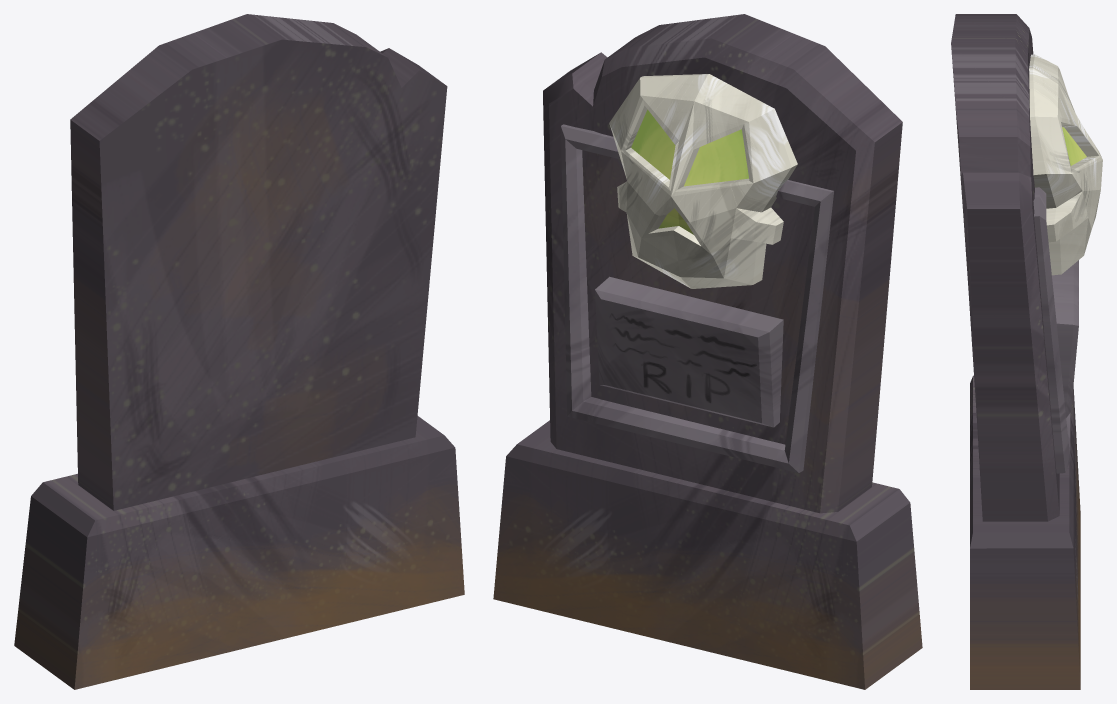
File: Tombstone.fbx
3 views of the same model, side by side, from view 1: azimuth 30°, elevation 25°; view 2: azimuth 150°, elevation 25°; view 3: azimuth 270°, elevation 25° (orthographic). The views are drawn at different scales.
Visible parts, largest first — view 1: Tombstone; view 2: Tombstone; view 3: Tombstone.
Part boxes in pixels (x1,y1,x2,y2): Tombstone: (14,14,464,689); Tombstone: (493,14,922,689); Tombstone: (951,14,1102,689).
Bounding box in the file's own units: 3612 × 5393 × 1326.
